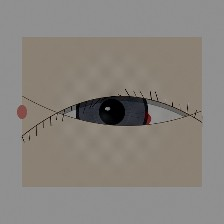hemorrhage_spot: (79, 85, 163, 152)
